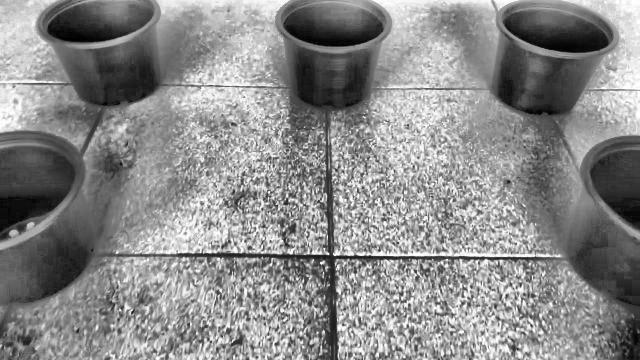pot: (0, 131, 98, 308), (490, 0, 620, 116), (36, 0, 162, 108), (275, 0, 392, 110), (566, 136, 640, 309)
